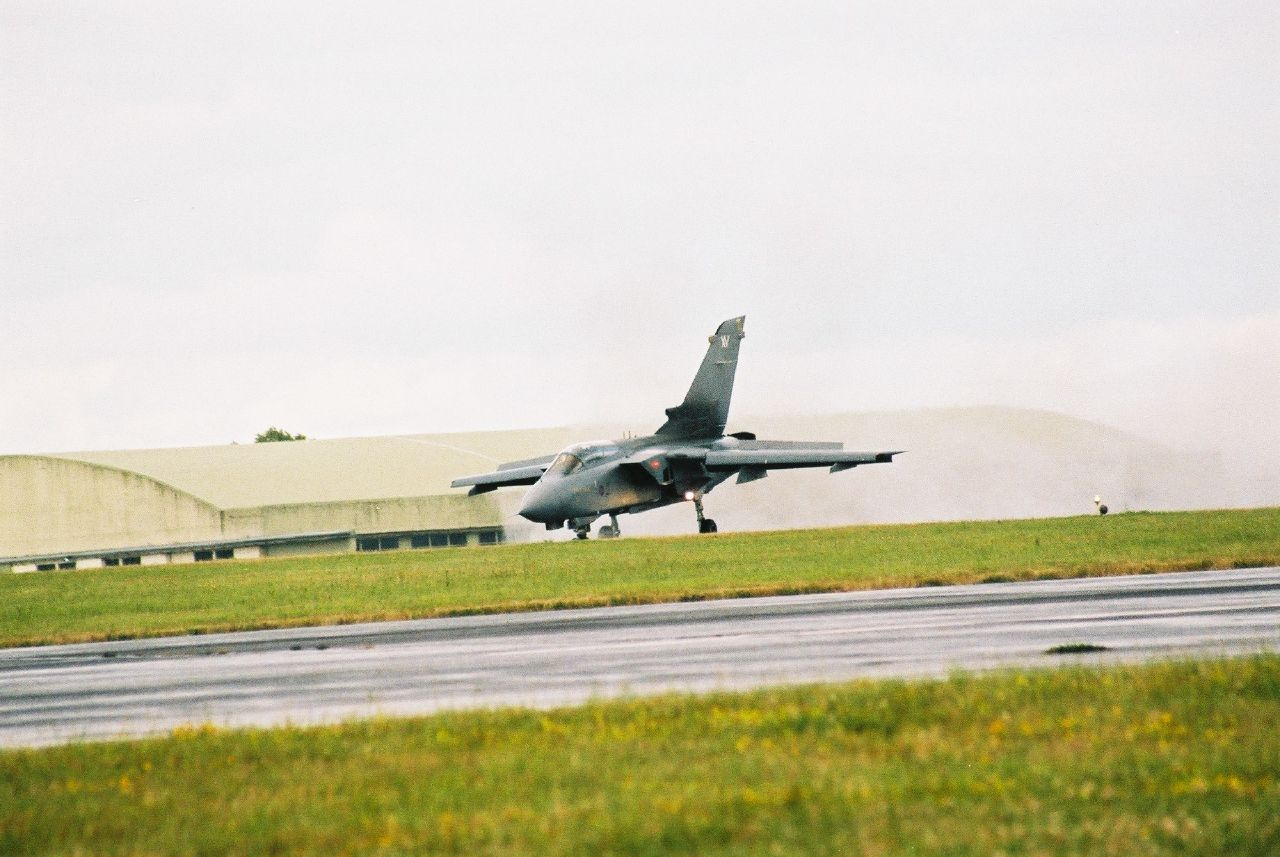Tornado: (449, 314, 912, 541)
